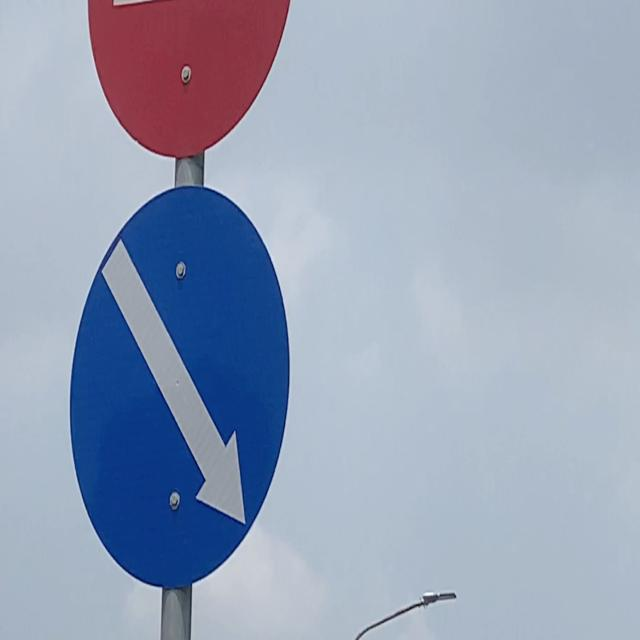Hieu lenh: (61, 170, 299, 602)
